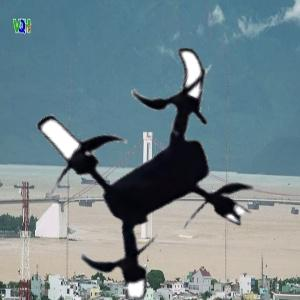drone: (10, 35, 272, 297)
